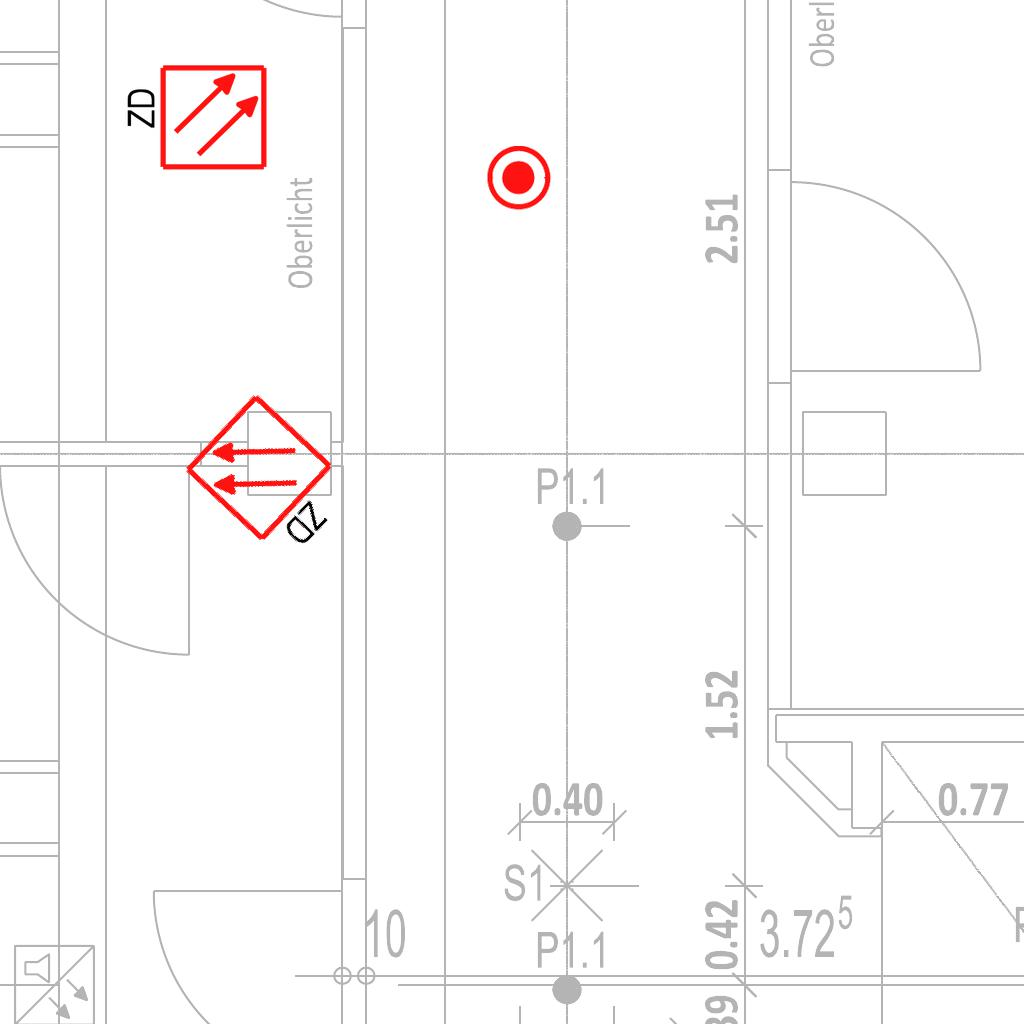Taster: (485, 146, 551, 212)
ZD_Melder_in_Zwischendecke_mit_Revisionsoeffnung_mind_40_x_40_cm: (180, 387, 368, 572), (120, 62, 269, 176)
